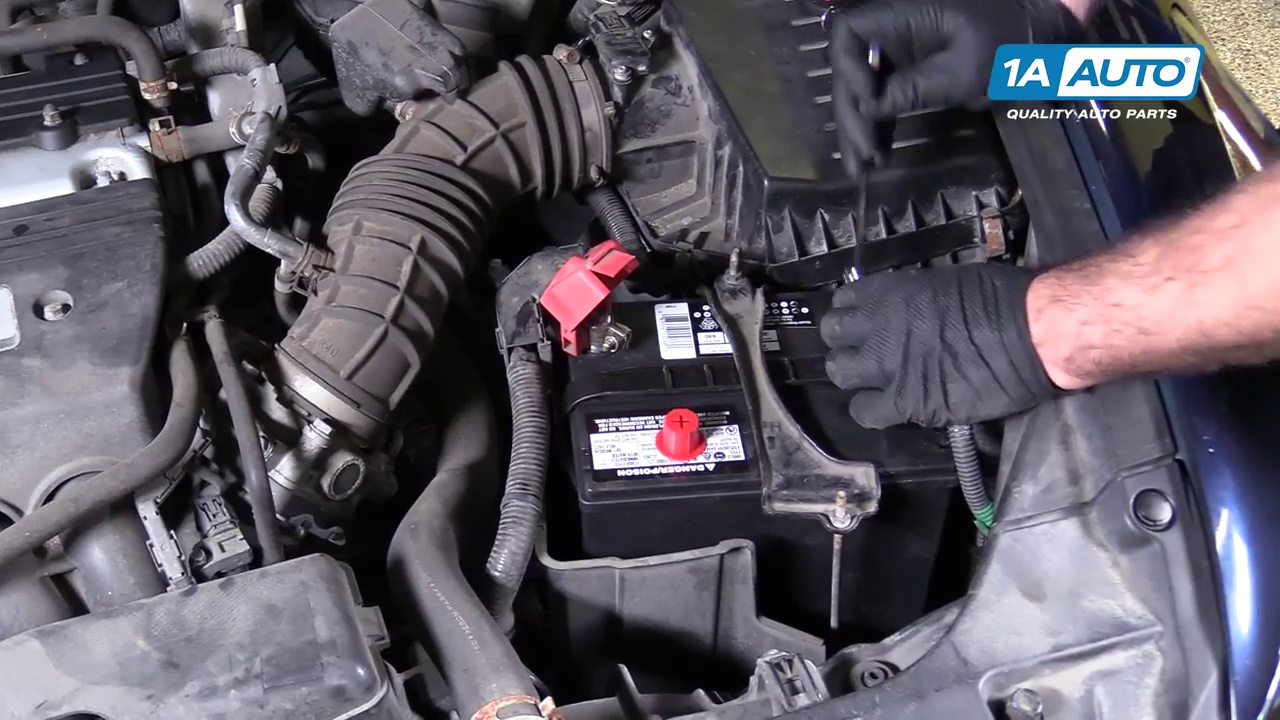battery: (535, 273, 964, 482)
pos_connected: (521, 231, 658, 361)
